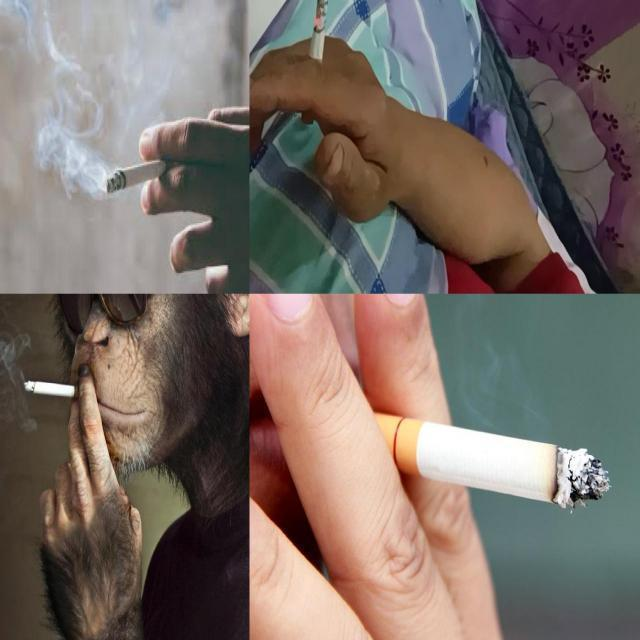rokok: (288, 390, 612, 514), (300, 0, 328, 124), (106, 158, 178, 194), (22, 376, 88, 402)
